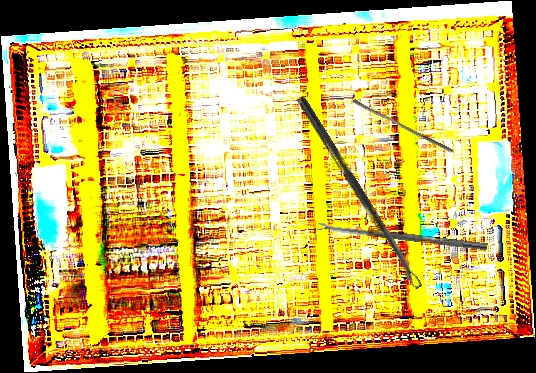Pusher: (349, 98, 457, 154)
Surgical Spoon: (295, 95, 423, 291), (317, 221, 488, 251)
